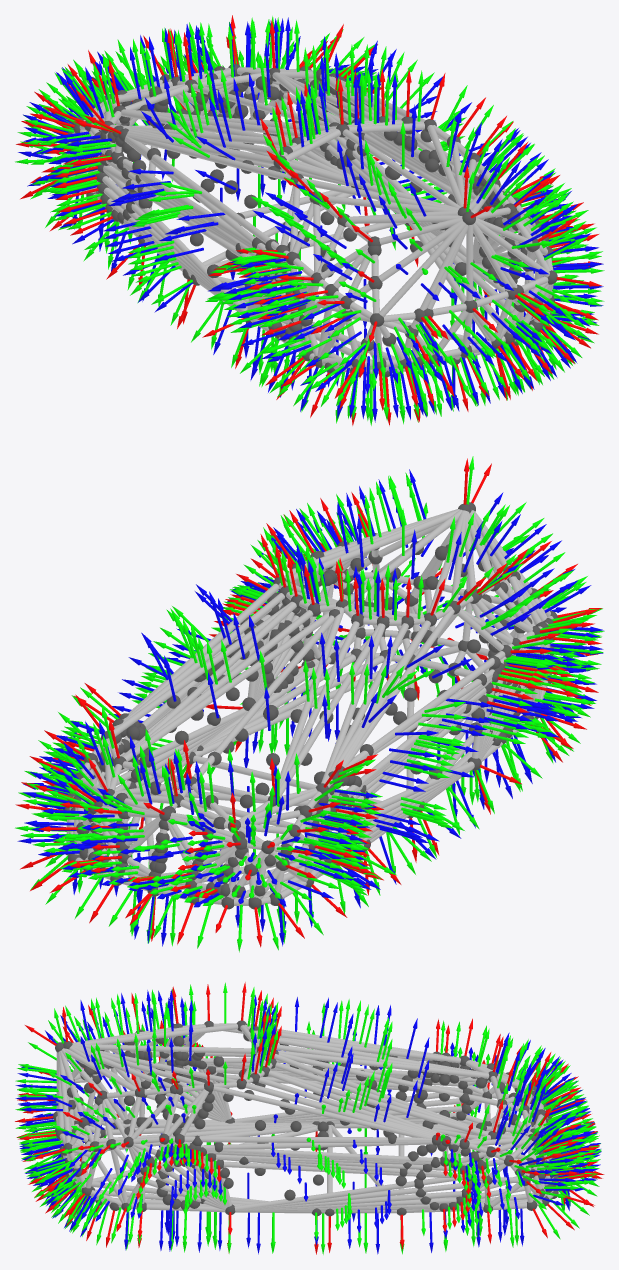
Rendered from ils_car4.gltf.
3 renders of one model, top to bottom at view 1: azimuth 30°, elevation 25°; view 2: azimuth 150°, elevation 25°; view 3: azimuth 270°, elevation 25°, orthographic. The views are drawn at different scales.
Bounding box in the file's own units: 0.5283 × 0.3996 × 1.06.
